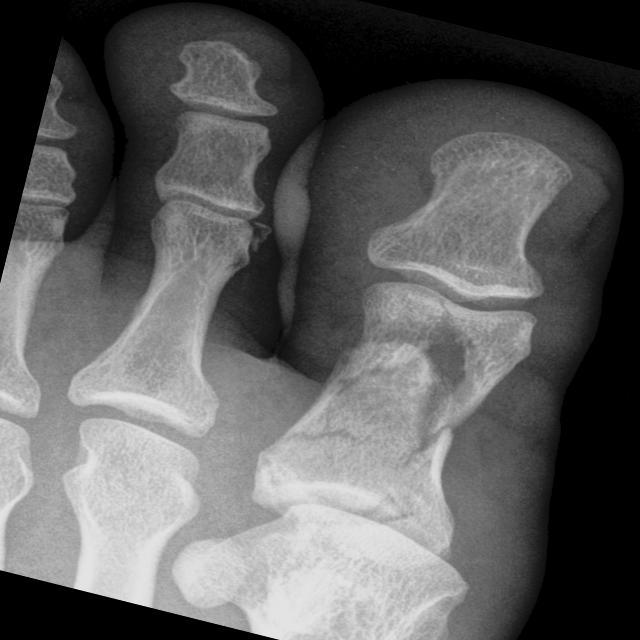Comminuted Fracture: (360, 290, 505, 404), (239, 180, 291, 265)
